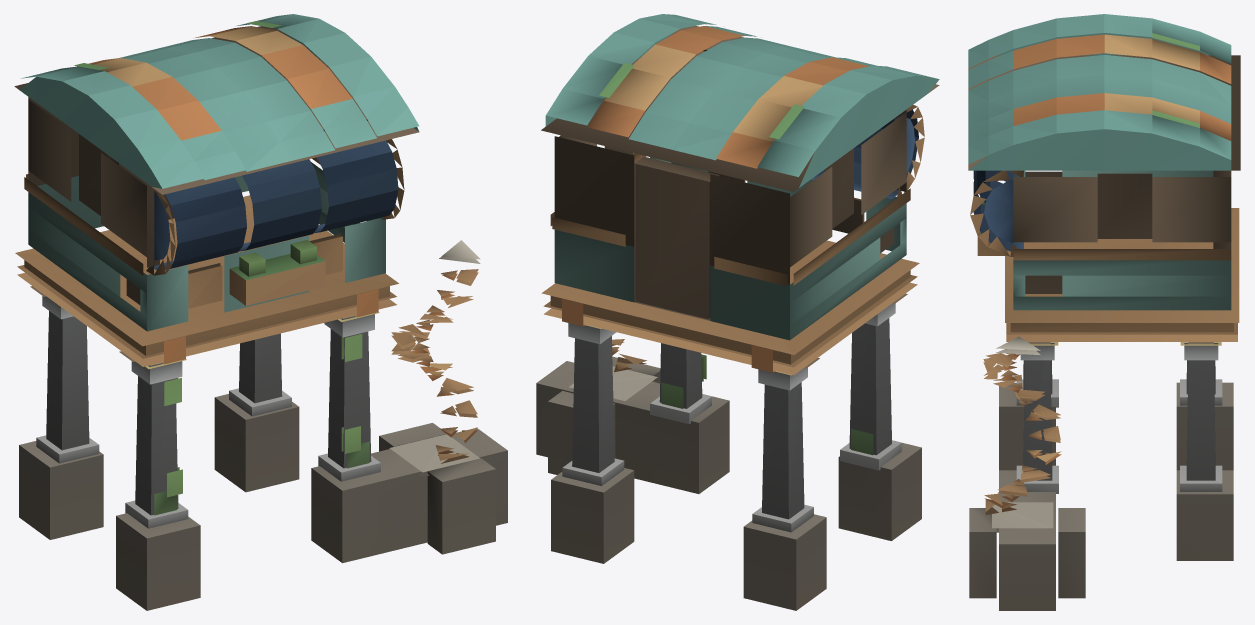
The model's file is loft.lod.glb.
3 views of the same model, side by side, from view 1: azimuth 30°, elevation 25°; view 2: azimuth 150°, elevation 25°; view 3: azimuth 270°, elevation 25° (orthographic). The views are drawn at different scales.
Visible parts, largest first — view 1: loft; view 2: loft; view 3: loft.
Boxes of the visible parts, box(x1,y1,x2,y2) form: loft: box(14, 14, 507, 610); loft: box(536, 14, 939, 610); loft: box(968, 14, 1240, 610).
Size of the model in its own units: 6.48 by 8.1 by 4.6.
